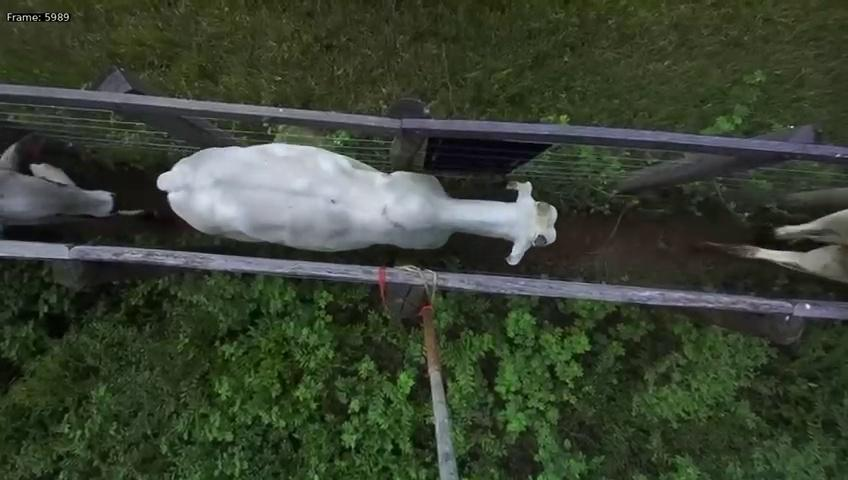cattle: (153, 122, 558, 266)
